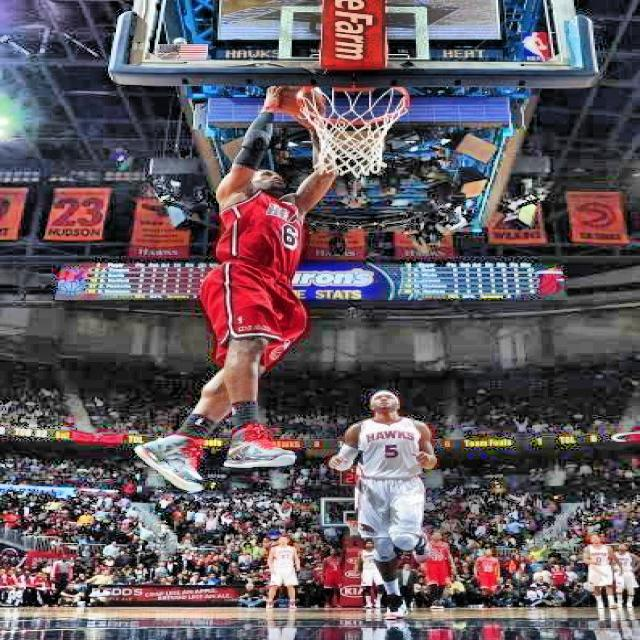rim: (296, 80, 410, 177)
